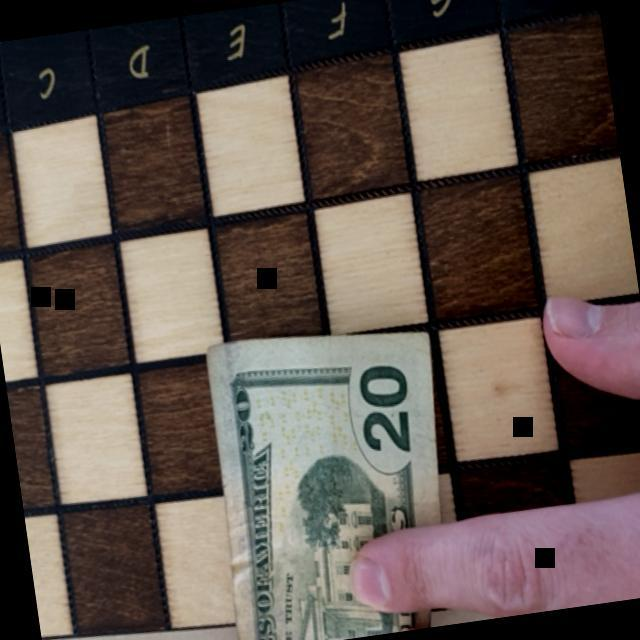twenty: (206, 332, 442, 640)
